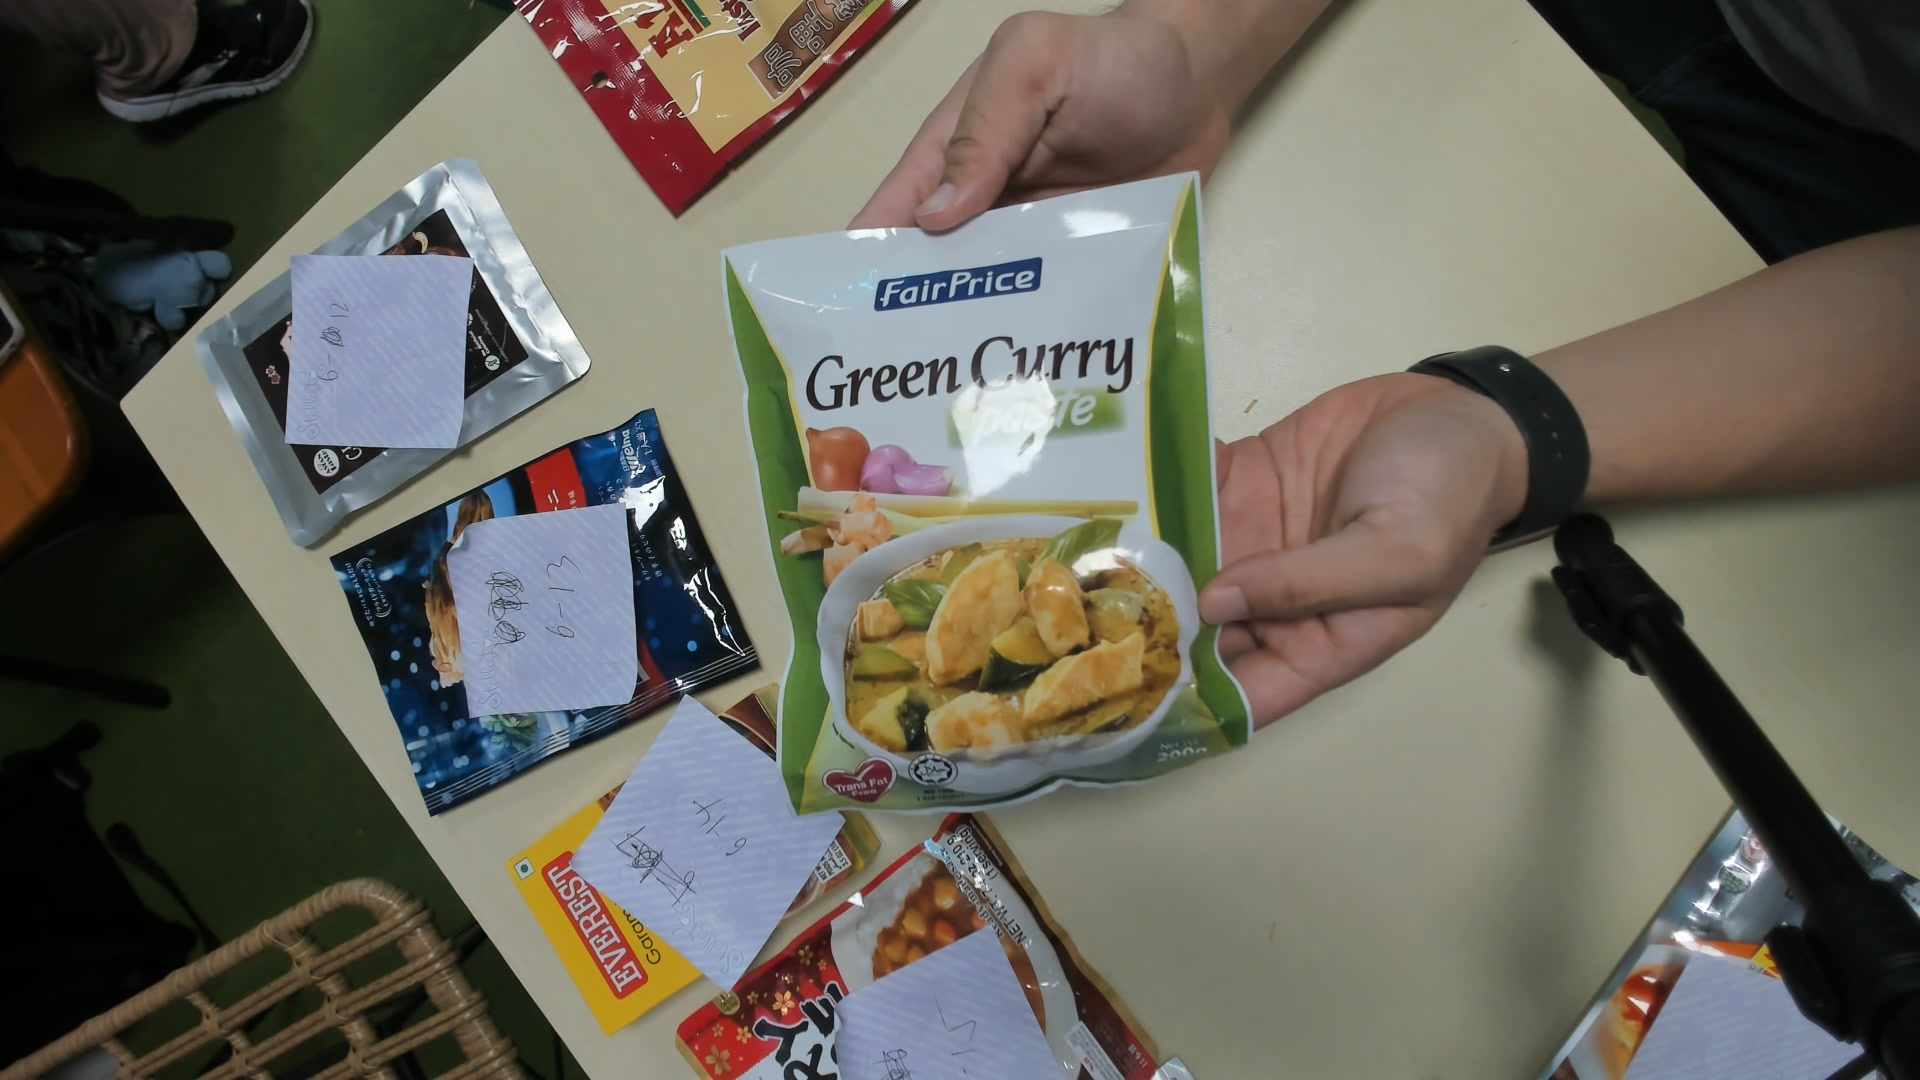CurryPastePowderSauce_200-299g_Halal_NonHealthy: (738, 171, 1261, 814)
